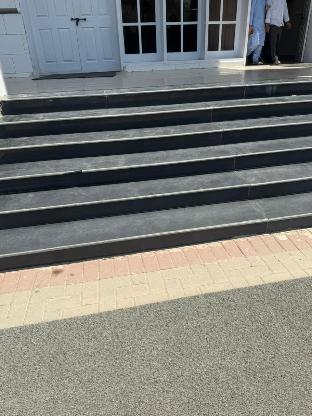stair: (0, 73, 312, 258)
